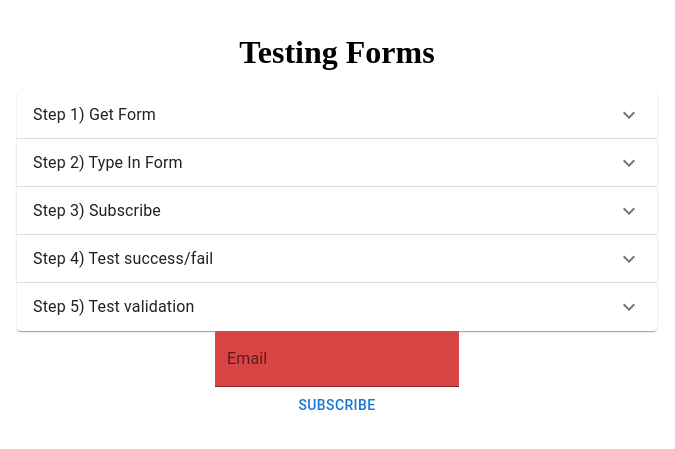
Test: Forms test › Test fail subscribe
Expected: the heading "Testing Forms" is shown, [239,34,435,71]
Type "boti@test" into the field labelled "Email". click: [337, 359]
box: [215,331,459,387]
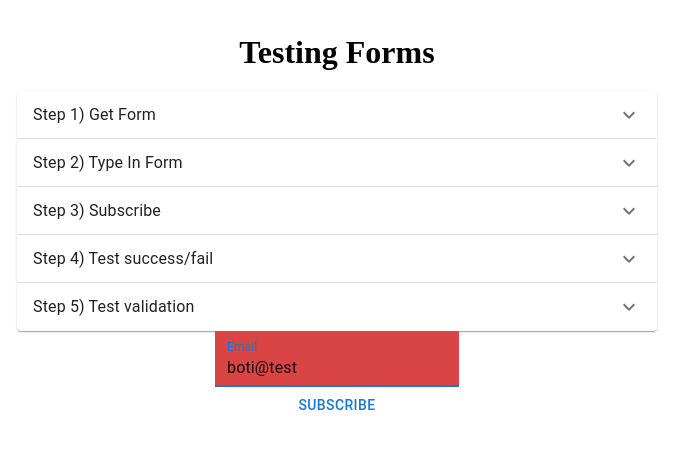
Click the button with test id "subscribe-button". click: [338, 406]
box: [291,387,384,424]
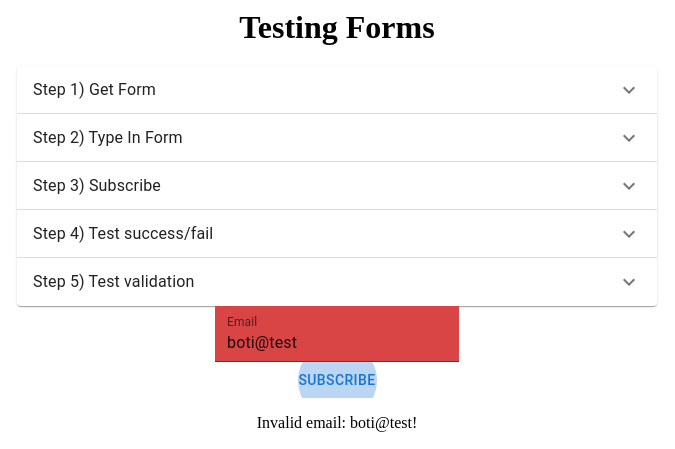
Now the text "Invalid email: boti@test!" is shown, box [257,414,417,432]
